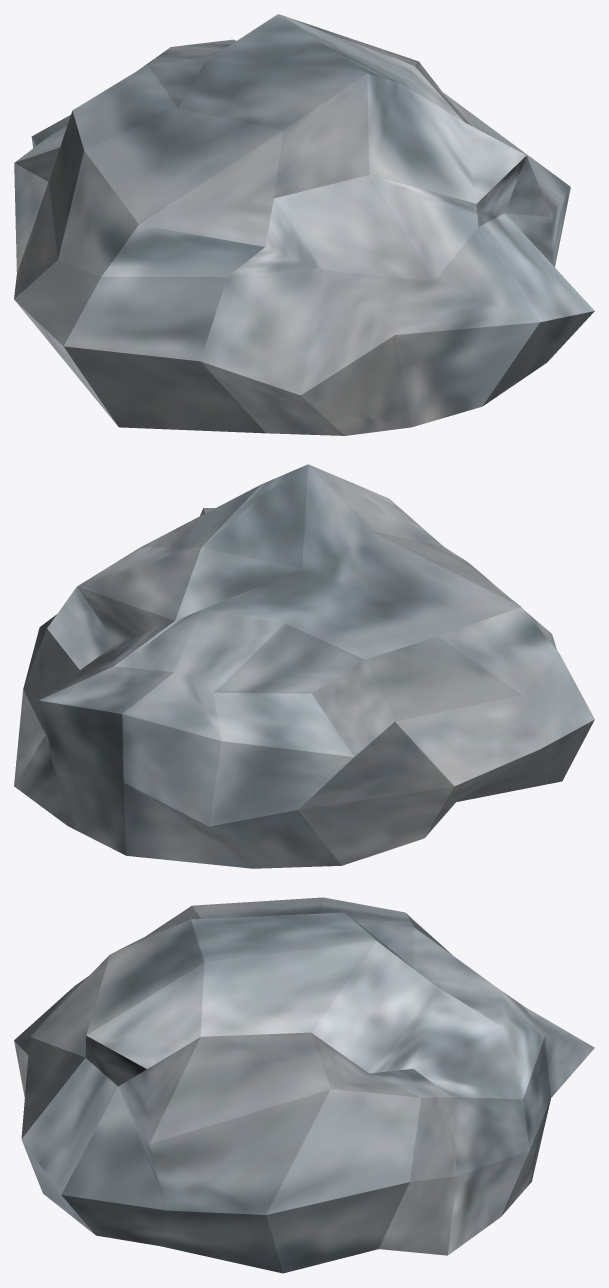
The model's file is stone_1.fbx.
3 renders of one model, top to bottom at view 1: azimuth 30°, elevation 25°; view 2: azimuth 150°, elevation 25°; view 3: azimuth 270°, elevation 25°, orthographic. The views are drawn at different scales.
Visible parts, largest first — view 1: Cube.000; view 2: Cube.000; view 3: Cube.000.
Part boxes in pixels (x1=…): Cube.000: x1=14, y1=14, x2=594, y2=435; Cube.000: x1=14, y1=464, x2=594, y2=868; Cube.000: x1=14, y1=897, x2=594, y2=1273.
Size of the model in its own units: 105 by 51.53 by 105.
